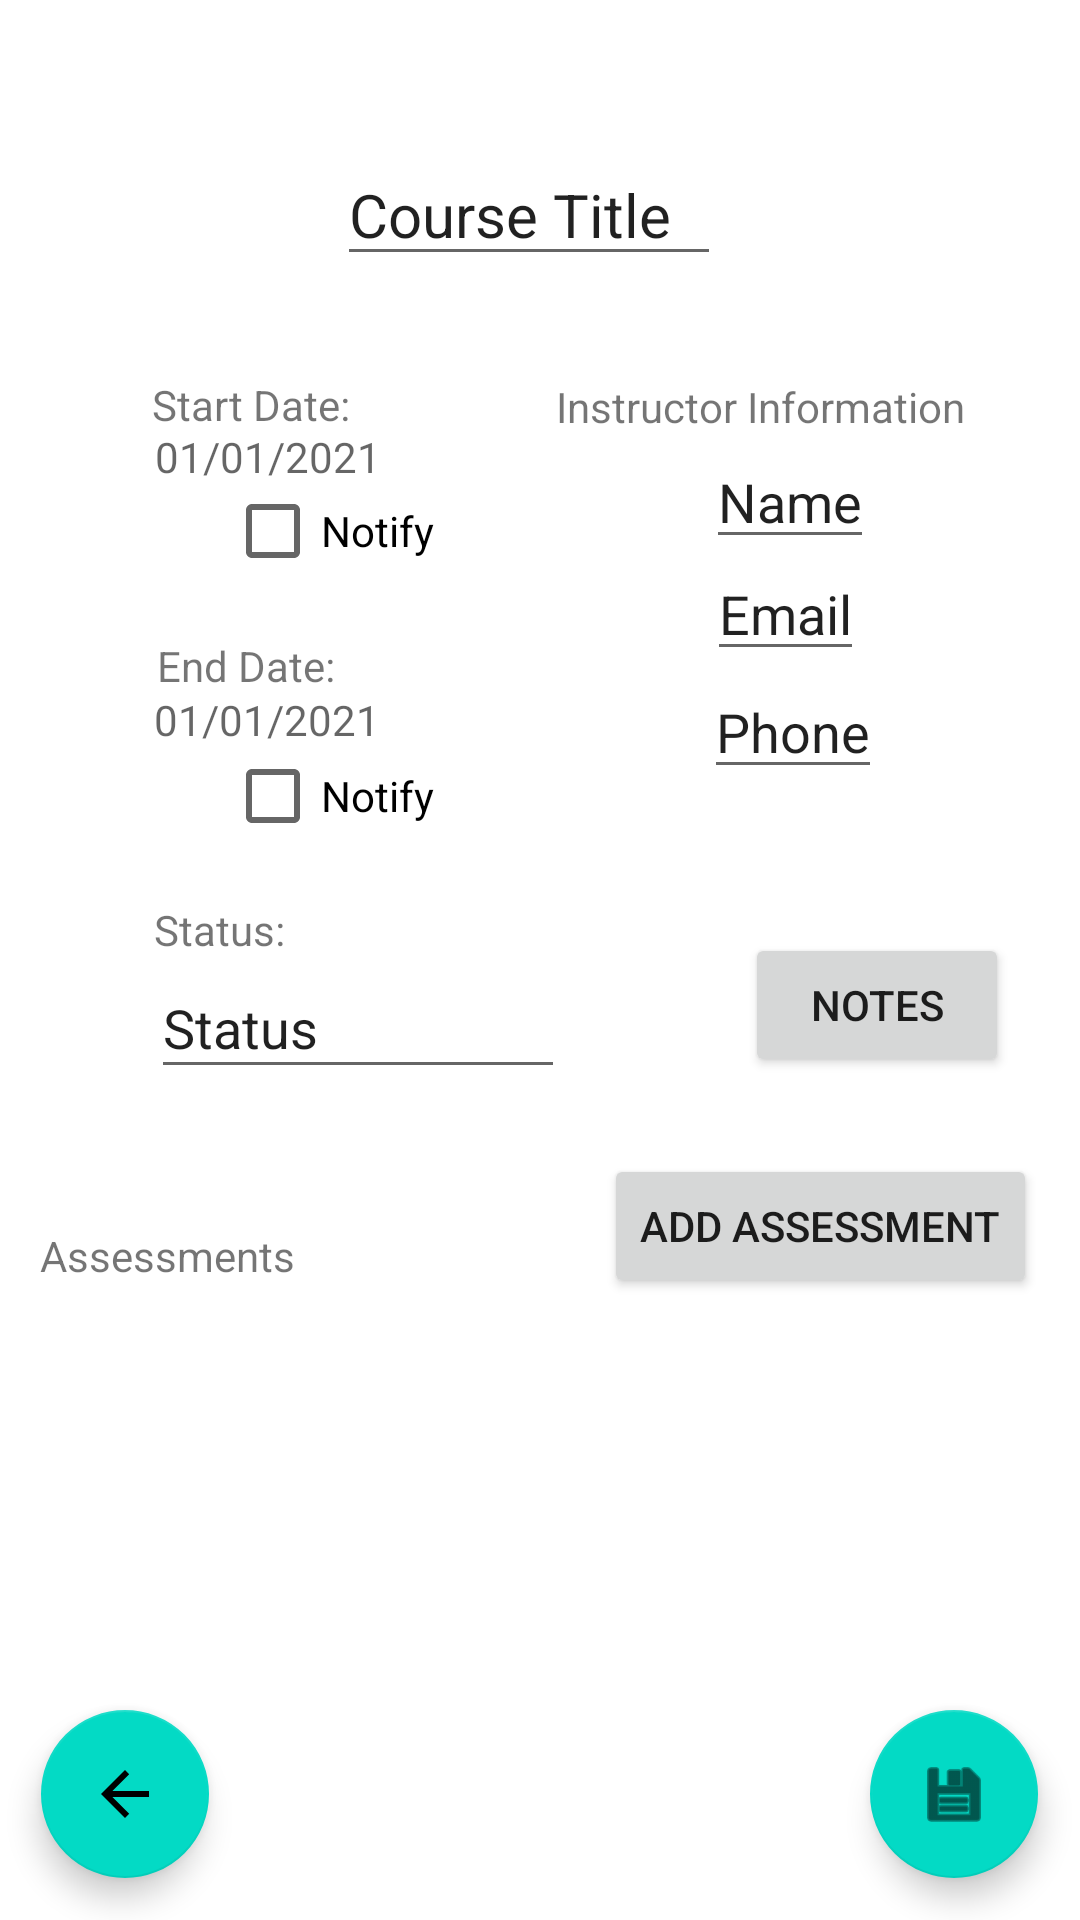

Icon click points for this 1080×1920 phone screenshot, format [x,y]:
save: [954,1794]
